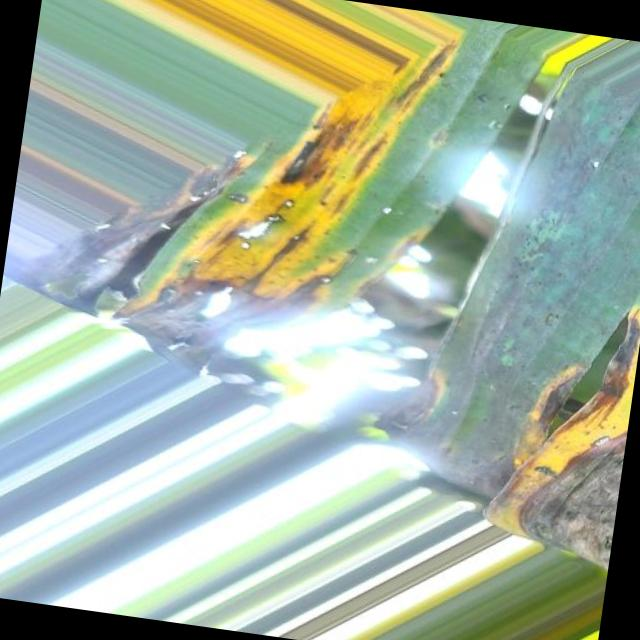Banana_Black_Sigatoka: (121, 24, 640, 614)
